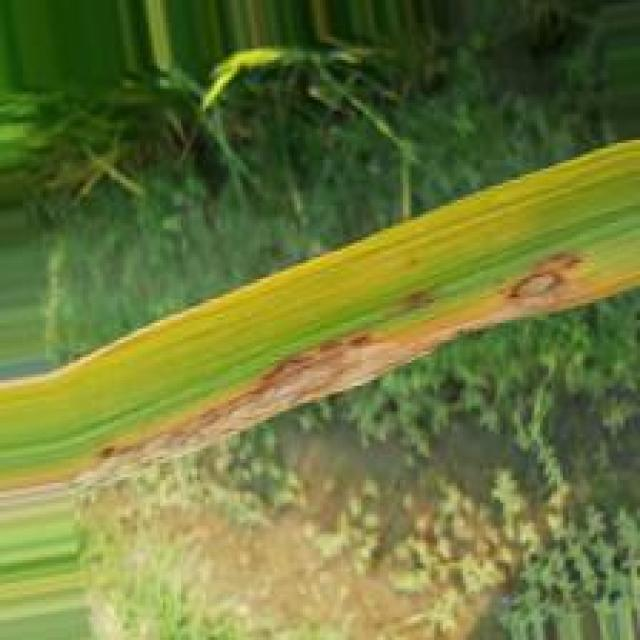Rice Tungro: (4, 250, 603, 504)
